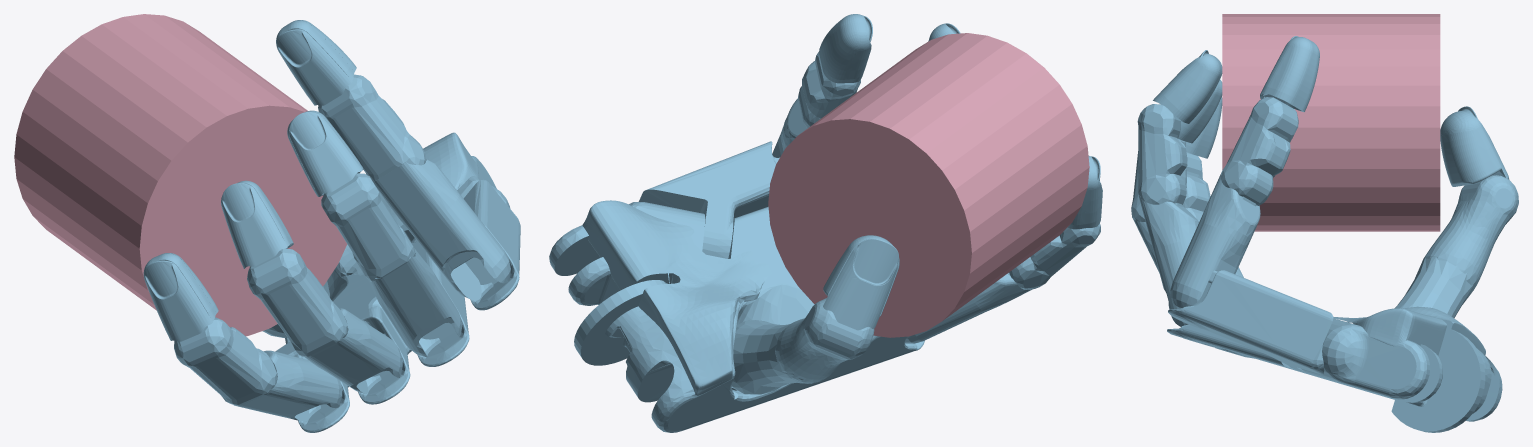
The picture shows the model from 3 angles, left to right: view 1: azimuth 30°, elevation 25°; view 2: azimuth 150°, elevation 25°; view 3: azimuth 270°, elevation 25°; orthographic projection. The views are drawn at different scales.
Parts seen in each view (by area): view 1: world; view 2: world; view 3: world.
Boxes of the visible parts, x1,y1,x2,y2 form: world: (14,14,520,432); world: (549,14,1102,432); world: (1131,14,1518,432).
Size of the model in its own units: 0.1722 by 0.1389 by 0.1424.
